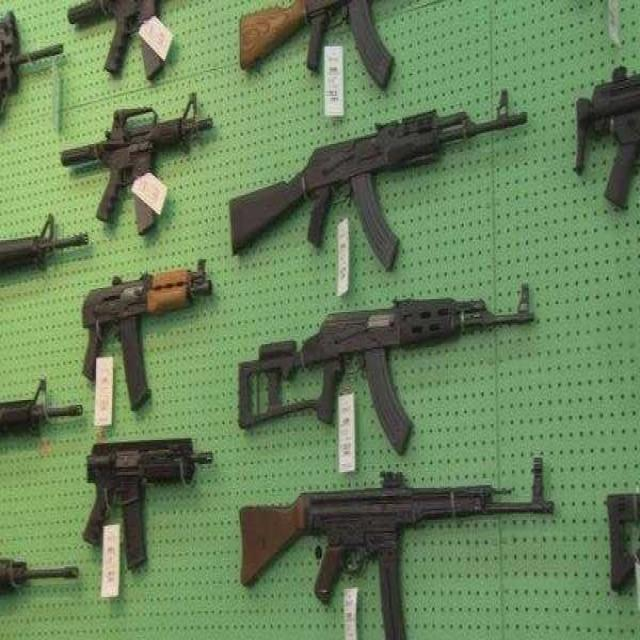heavyweapon: (226, 265, 548, 484), (219, 77, 546, 288), (242, 449, 571, 628), (51, 68, 234, 252), (71, 245, 225, 424), (75, 422, 224, 588)
